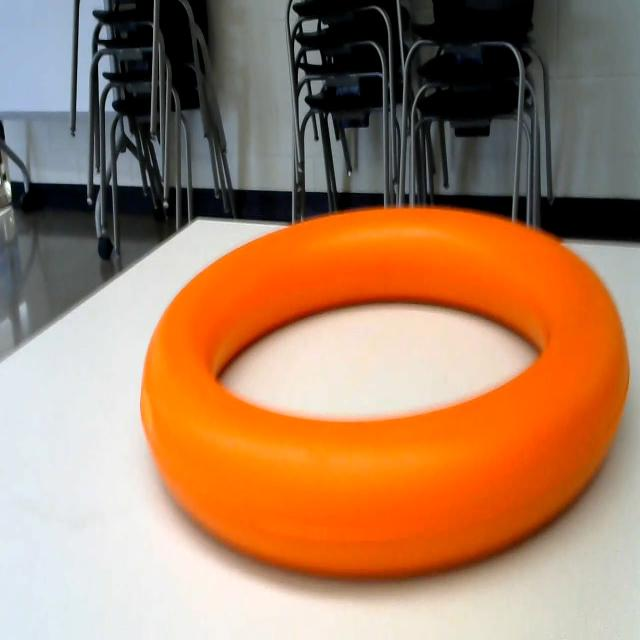note: (114, 163, 634, 597)
